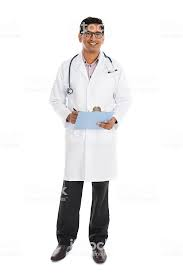Indian_Male: (79, 18, 103, 51)
